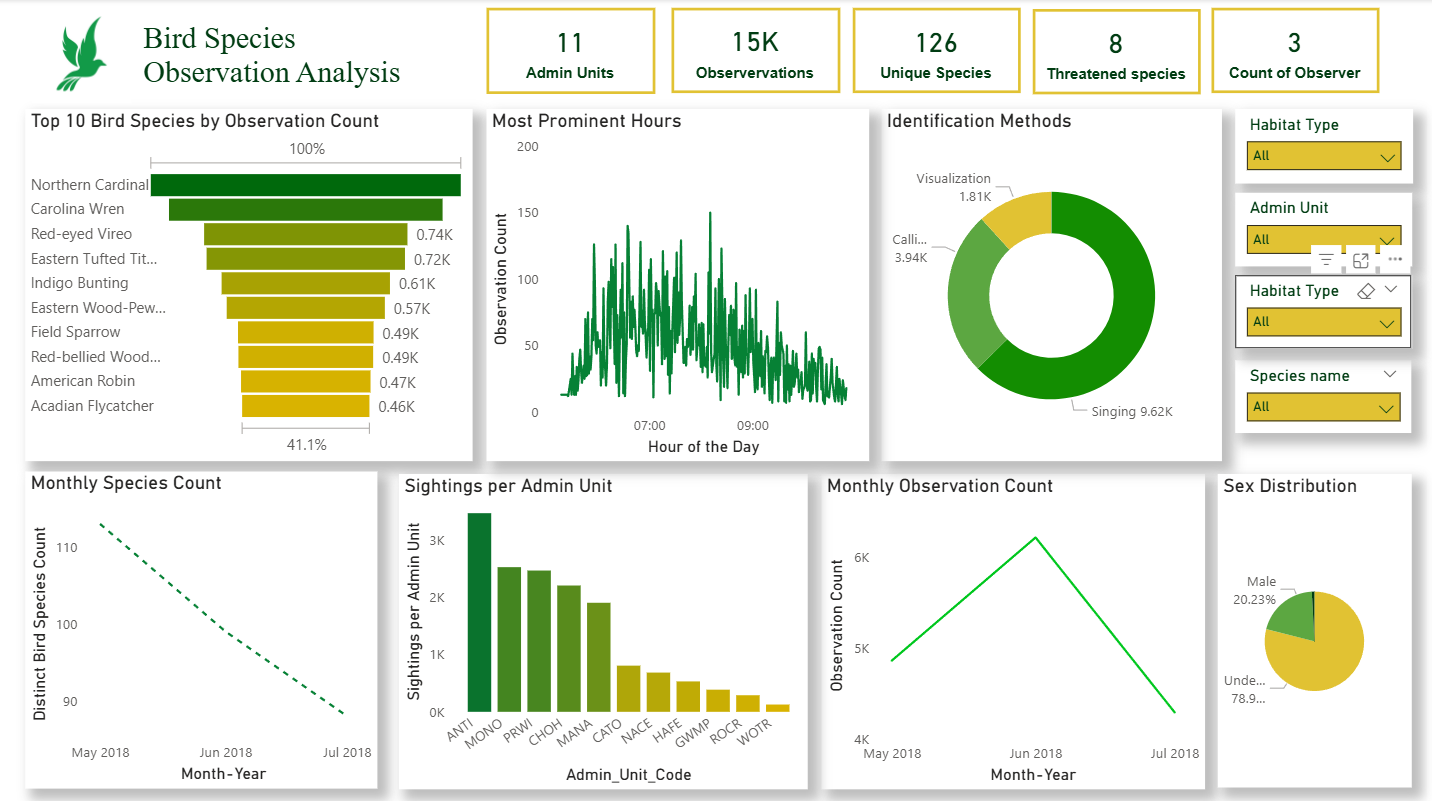

This screenshot's page, from the dashboard's own definition file:
{"tool":"powerbi","page":{"name":"Overview - Temporal, Spatial & Species Analysis","canvas":[1280,720],"ordinal":0},"visuals":[{"type":"textbox","box":[123.6,14.5,257.1,75.7],"z":0},{"type":"card","fields":{"Values":["cleaned_bird_dataset.Total Observervations"]},"box":[599.2,7.4,150,76],"z":1000},{"type":"card","fields":{"Values":["cleaned_bird_dataset.Unique Species"]},"box":[759.9,7.4,149.7,76.1],"z":2000},{"type":"card","fields":{"Values":["cleaned_bird_dataset.Threatened species Count"]},"box":[920.6,8.7,149.7,76.1],"z":3000},{"type":"funnel","title":"Top 10 Bird Species by Observation Count","fields":{"Category":["cleaned_bird_dataset.Common_Name"],"Y":["CountNonNull(cleaned_bird_dataset.Common_Name)"]},"box":[23.4,97.6,398,313.5],"z":4000},{"type":"lineChart","title":"Monthly Observation Count","fields":{"Category":["cleaned_bird_dataset.Date.Variation.Date Hierarchy.Year","cleaned_bird_dataset.Date.Variation.Date Hierarchy.Month"],"Y":["CountNonNull(cleaned_bird_dataset.Admin_Unit_Code)"]},"box":[732.5,423,341.7,280.5],"z":5000},{"type":"lineChart","title":"Monthly Species Count","fields":{"Y":["Count(cleaned_bird_dataset.Common_Name)"],"Category":["cleaned_bird_dataset.Date.Variation.Date Hierarchy.Year","cleaned_bird_dataset.Date.Variation.Date Hierarchy.Month"]},"box":[23.5,420.4,313.7,282.4],"z":6000},{"type":"donutChart","title":"Identification Methods","fields":{"Category":["cleaned_bird_dataset.ID_Method"],"Y":["CountNonNull(cleaned_bird_dataset.ID_Method)"]},"box":[785.7,97.6,303.1,313.5],"z":7000},{"type":"card","fields":{"Values":["Count(cleaned_bird_dataset.Observer)"]},"box":[1080.1,7.4,149.7,76.1],"z":8000},{"type":"lineClusteredColumnComboChart","title":"Sightings per Admin Unit","fields":{"Category":["cleaned_bird_dataset.Admin_Unit_Code"],"Y":["cleaned_bird_dataset.Sightings per Admin Unit"]},"box":[356.1,423.5,363.9,280.8],"z":9000},{"type":"slicer","fields":{"Values":["cleaned_bird_dataset.Location_Type"]},"box":[1100.6,98.2,158.3,66.3],"z":10000},{"type":"slicer","fields":{"Values":["cleaned_bird_dataset.Admin_Unit_Code"]},"box":[1100.6,172.5,157.7,65.3],"z":11000},{"type":"slicer","fields":{"Values":["cleaned_bird_dataset.Common_Name"]},"box":[1100.9,321.7,157,64.6],"z":12000},{"type":"slicer","fields":{"Values":["cleaned_bird_dataset.Location_Type"]},"box":[1100.6,246.4,157.7,65.3],"z":13000},{"type":"image","box":[23.4,0,100.2,98],"z":14000},{"type":"card","fields":{"Values":["cleaned_bird_dataset.Admin Units"]},"box":[434.5,8.3,150.3,76.8],"z":15000},{"type":"lineChart","title":"Most Prominent Hours","fields":{"Category":["cleaned_bird_dataset.Start_Time"],"Y":["CountNonNull(cleaned_bird_dataset.Admin_Unit_Code)"]},"box":[434.1,98,340.6,313.9],"z":16000},{"type":"pieChart","title":"Sex Distribution","fields":{"Category":["cleaned_bird_dataset.Sex"],"Y":["CountNonNull(cleaned_bird_dataset.Sex)"]},"box":[1085.5,423.5,172.5,279.2],"z":17000}]}

Visuals, with their boxes in screenshot pixels (x1, y1, x2, y2), scaled from the page's 1280x720 canvas onto the 1432x801 screenshot:
textbox: bbox(138, 16, 426, 100)
card - cleaned_bird_dataset.Total Observervations: bbox(670, 8, 838, 93)
card - cleaned_bird_dataset.Unique Species: bbox(850, 8, 1018, 93)
card - cleaned_bird_dataset.Threatened species Count: bbox(1030, 10, 1197, 94)
"Top 10 Bird Species by Observation Count" funnel: bbox(26, 109, 471, 457)
"Monthly Observation Count" lineChart: bbox(819, 471, 1202, 783)
"Monthly Species Count" lineChart: bbox(26, 468, 377, 782)
"Identification Methods" donutChart: bbox(879, 109, 1218, 457)
card - Count(cleaned_bird_dataset.Observer): bbox(1208, 8, 1376, 93)
"Sightings per Admin Unit" lineClusteredColumnComboChart: bbox(398, 471, 805, 784)
slicer - cleaned_bird_dataset.Location_Type: bbox(1231, 109, 1408, 183)
slicer - cleaned_bird_dataset.Admin_Unit_Code: bbox(1231, 192, 1408, 265)
slicer - cleaned_bird_dataset.Common_Name: bbox(1232, 358, 1407, 430)
slicer - cleaned_bird_dataset.Location_Type: bbox(1231, 274, 1408, 347)
image: bbox(26, 0, 138, 109)
card - cleaned_bird_dataset.Admin Units: bbox(486, 9, 654, 95)
"Most Prominent Hours" lineChart: bbox(486, 109, 867, 458)
"Sex Distribution" pieChart: bbox(1214, 471, 1407, 782)
